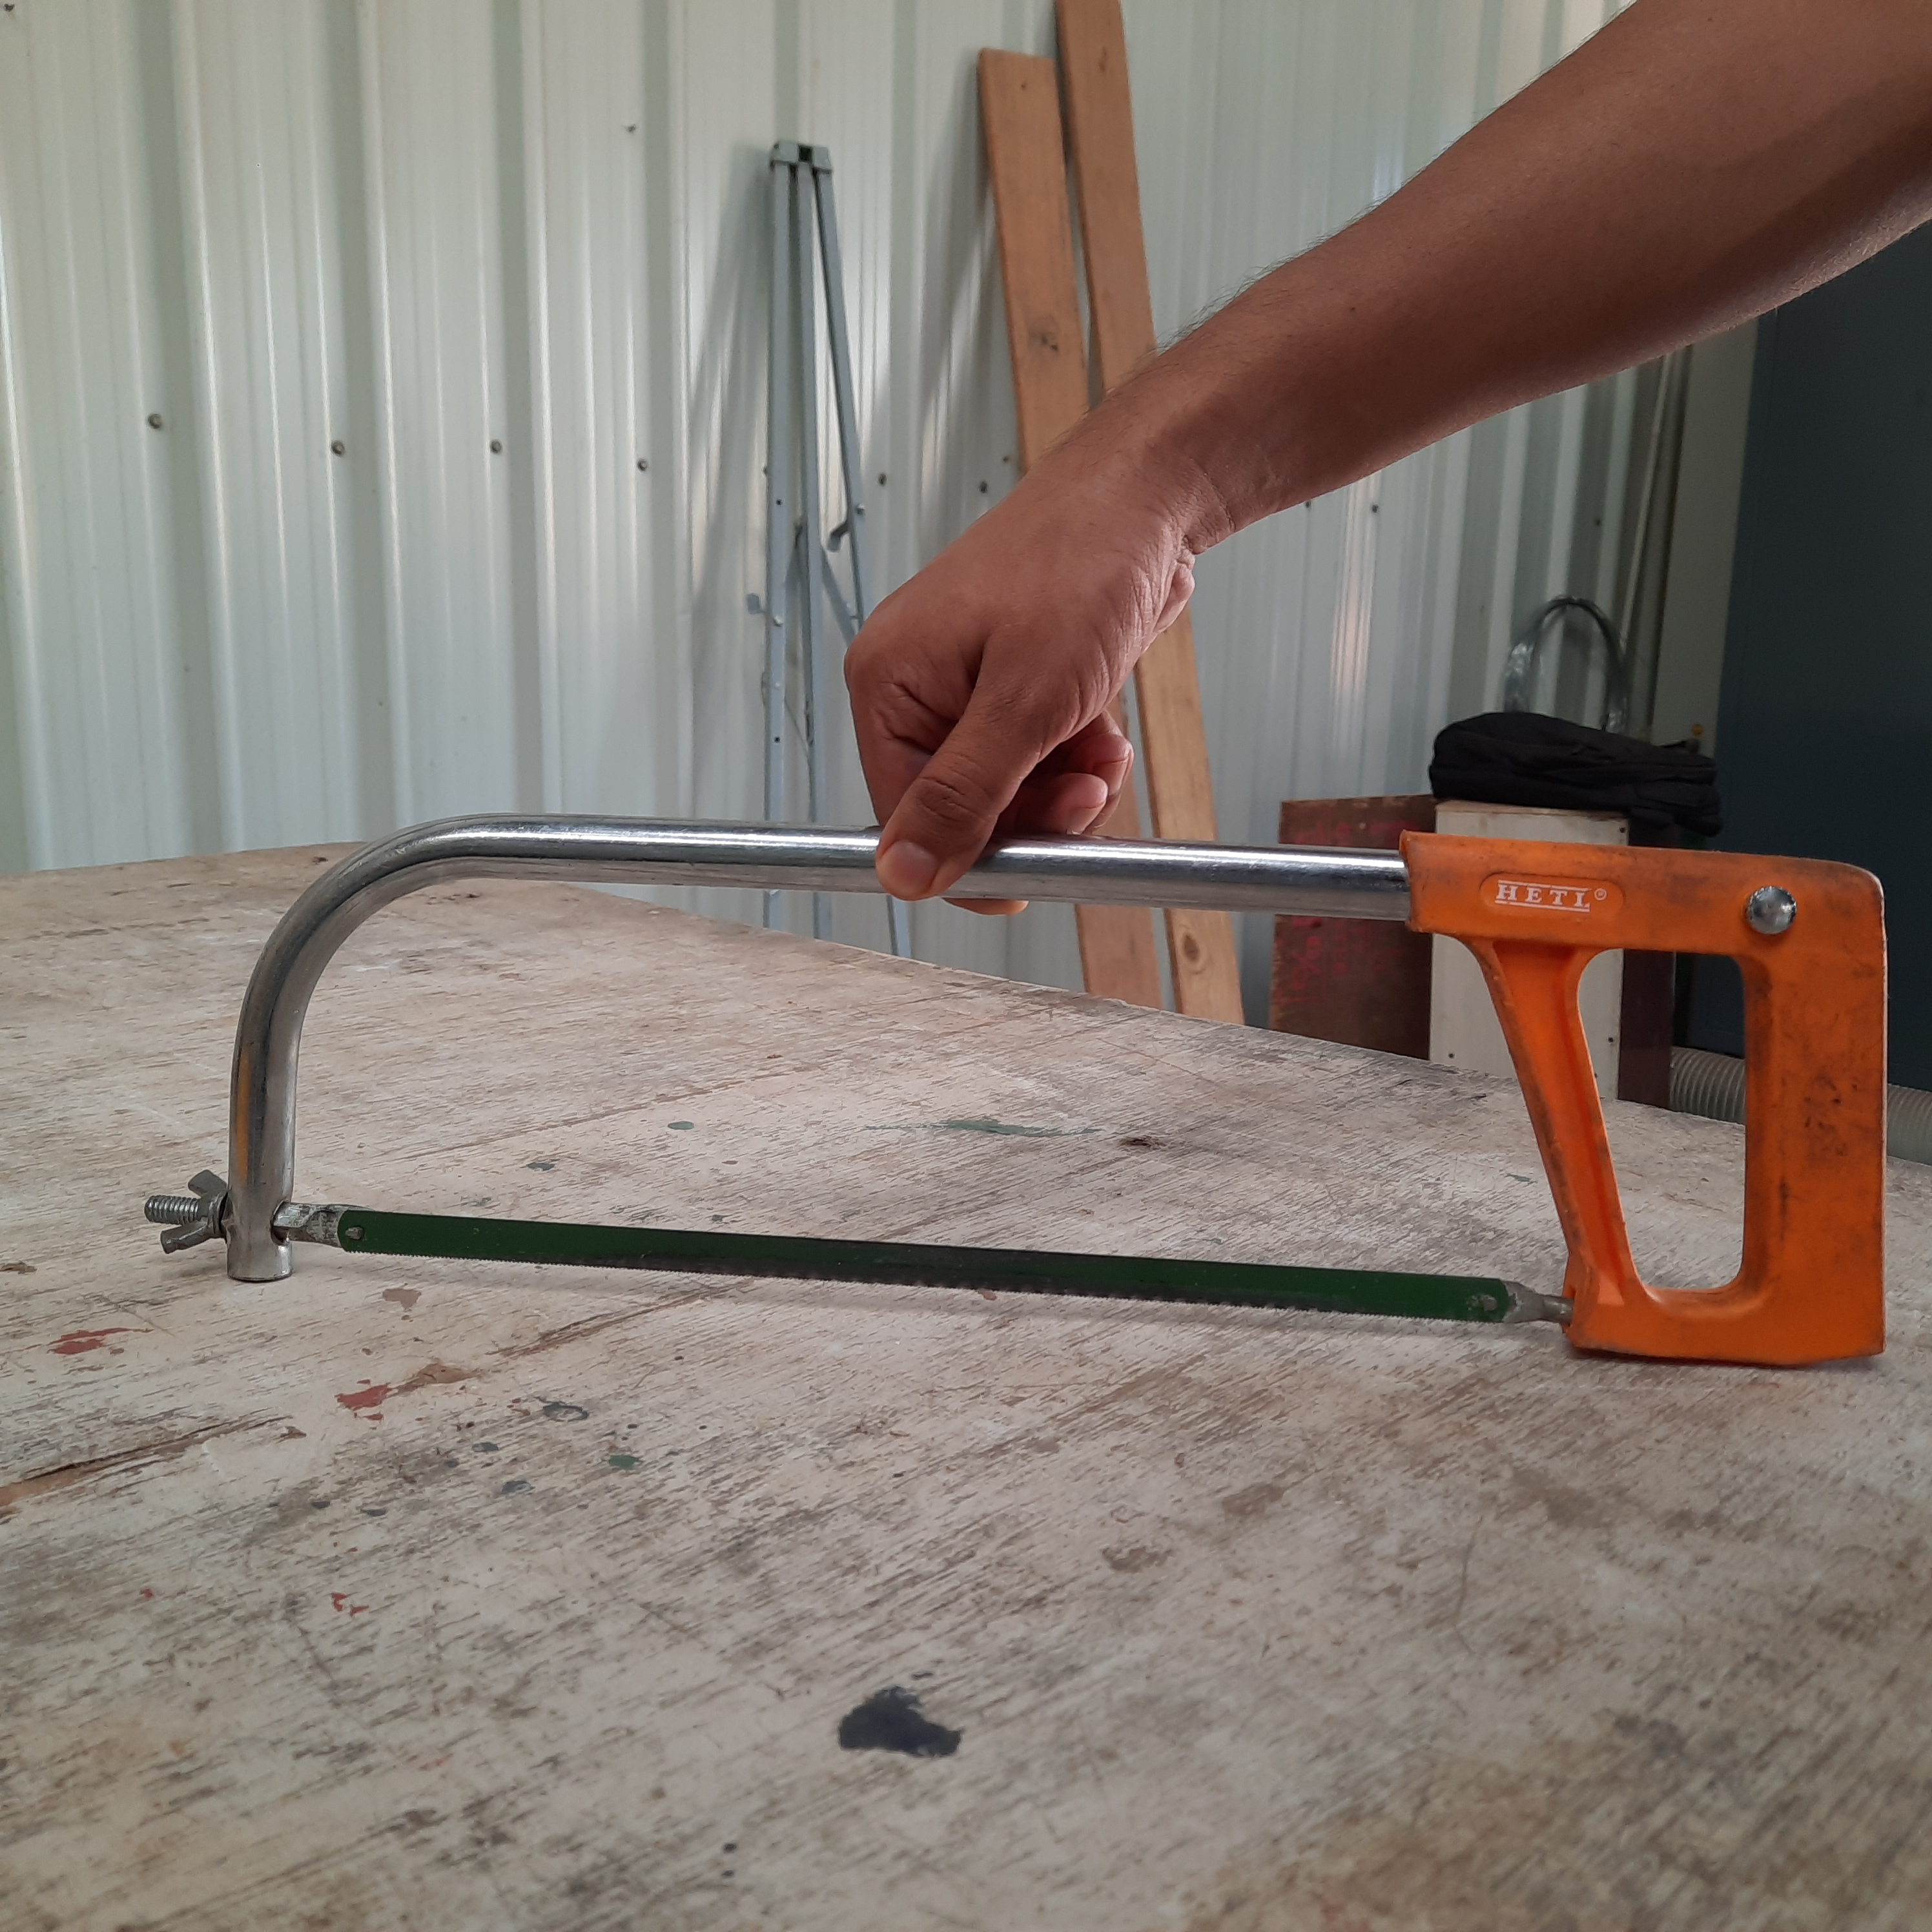Hexaframe: (117, 787, 1902, 1433)
